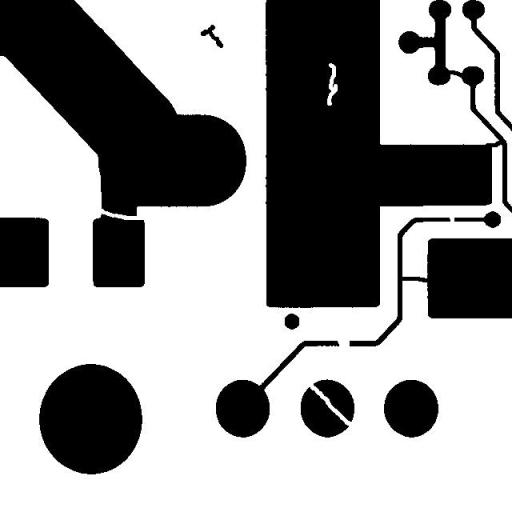copper: (193, 17, 230, 55)
open: (298, 374, 360, 432), (90, 200, 164, 227), (330, 329, 356, 356), (442, 208, 462, 230)
pin-hole: (319, 55, 345, 113)
short: (390, 268, 438, 290), (439, 62, 475, 86), (478, 133, 510, 154)
